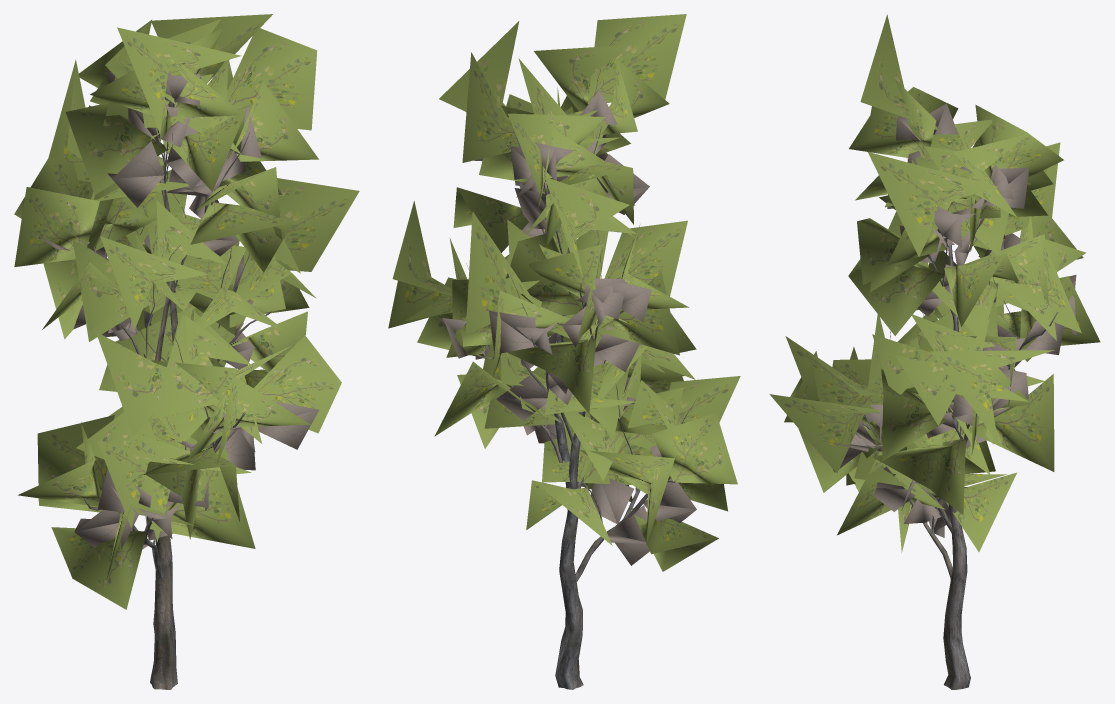
Rendered from sm_TreeSamll_01_01.fbx.
3 renders of one model, left to right at view 1: azimuth 30°, elevation 25°; view 2: azimuth 150°, elevation 25°; view 3: azimuth 270°, elevation 25°, orthographic. The views are drawn at different scales.
Visible parts, largest first — view 1: sm_TreeSamll_01_01_LOD0; view 2: sm_TreeSamll_01_01_LOD0; view 3: sm_TreeSamll_01_01_LOD0.
Boxes of the visible parts, x1=… form: sm_TreeSamll_01_01_LOD0: x1=14, y1=14, x2=359, y2=689; sm_TreeSamll_01_01_LOD0: x1=388, y1=14, x2=740, y2=689; sm_TreeSamll_01_01_LOD0: x1=769, y1=14, x2=1100, y2=689.
Size of the model in its own units: 316 by 294 by 621.
